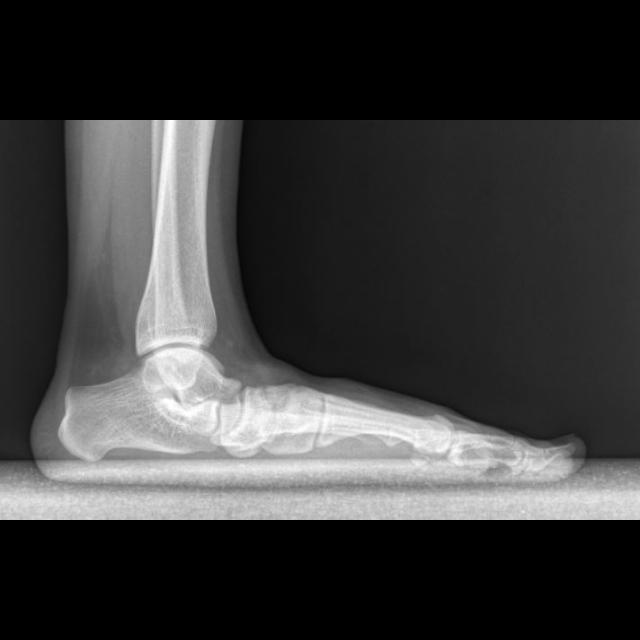a: (58, 364, 216, 462)
b: (219, 386, 270, 455)
c: (315, 394, 454, 454)
